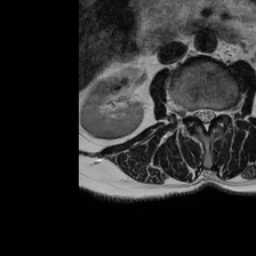CCS_normal: (203, 101, 210, 136)
LFS_stenosis: (217, 102, 226, 123)
LLS_stenosis: (210, 102, 217, 125)
RFS_stenosis: (186, 102, 194, 123)
RLS_normal: (194, 102, 202, 124)
